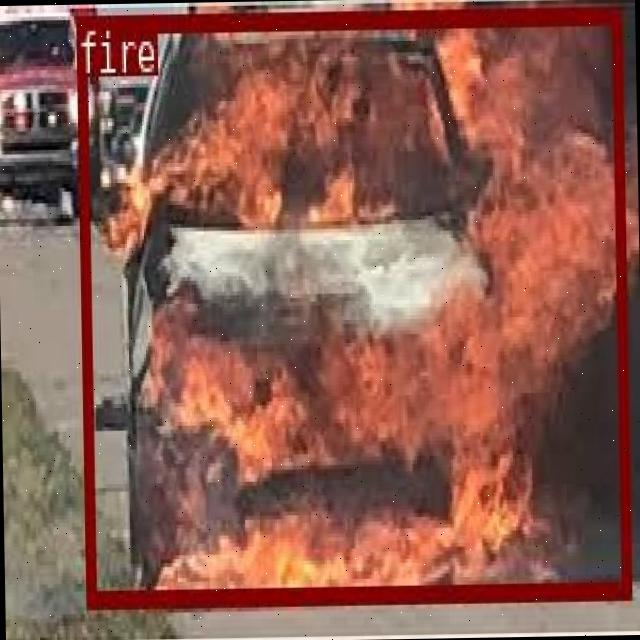fire: (76, 3, 628, 602)
